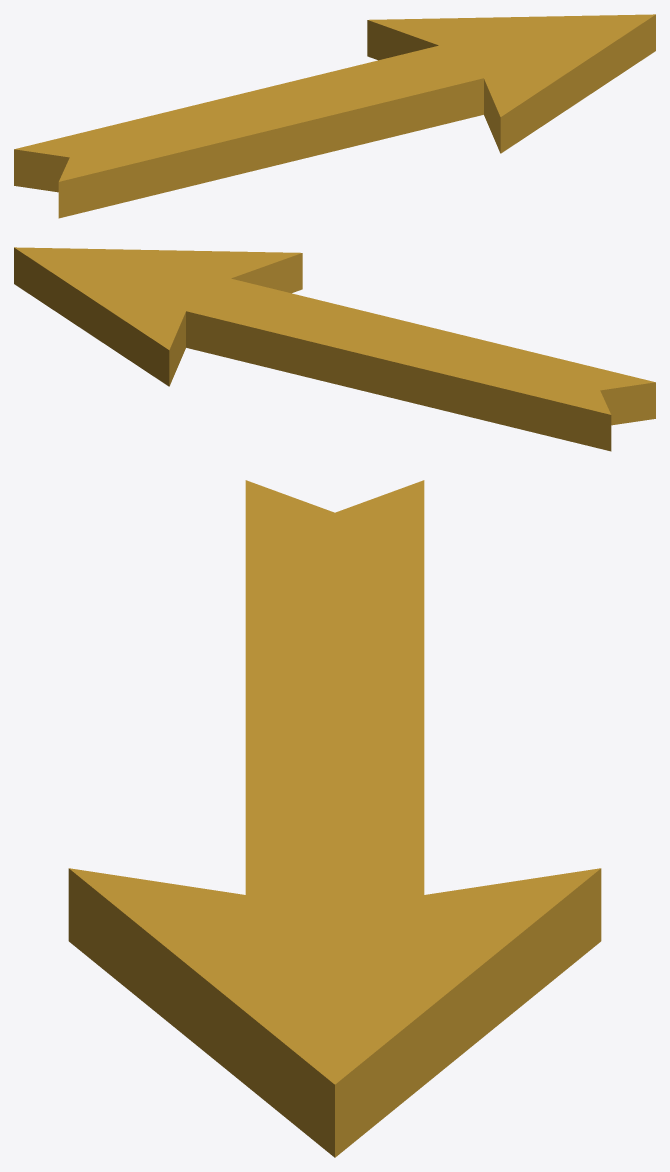
Rendered from Arrow.fbx.
The picture shows the model from 3 angles, top to bottom: view 1: azimuth 30°, elevation 25°; view 2: azimuth 150°, elevation 25°; view 3: azimuth 270°, elevation 25°; orthographic projection. The views are drawn at different scales.
Parts seen in each view (by area): view 1: Cube; view 2: Cube; view 3: Cube.
Boxes of the visible parts, x1=… form: Cube: x1=14, y1=14, x2=655, y2=218; Cube: x1=14, y1=247, x2=655, y2=451; Cube: x1=68, y1=480, x2=601, y2=1157.
Bounding box in the file's own units: 1086 × 61.25 × 404.
Materials: 1 (1 with a texture image).
